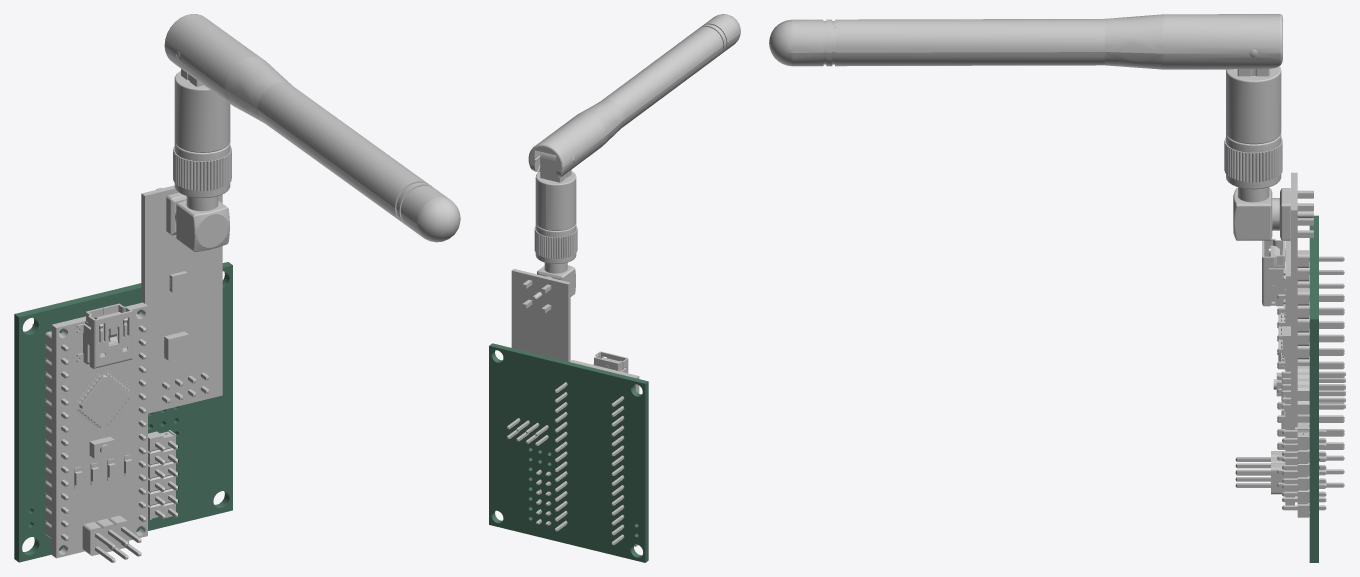
The model's file is nano reciver.glb.
3 renders of one model, left to right at view 1: azimuth 30°, elevation 25°; view 2: azimuth 150°, elevation 25°; view 3: azimuth 270°, elevation 25°, orthographic. The views are drawn at different scales.
Visible parts, largest first — view 1: empty_130, empty_32, empty_100, empty_2, empty_31, empty_11, empty_103, empty_33, empty_59, empty_129, empty_49, empty_39 (+2 smaller); view 2: empty_130, empty_32, empty_2, empty_31, empty_33, empty_11, empty_103; view 3: empty_32, empty_31, empty_11, empty_130, empty_33, empty_2, empty_103, empty_102, empty_41, empty_100, empty_42, empty_40.
Part boxes in pixels (x1,y1,x2,y2): empty_130: (14,262,232,562); empty_32: (164,14,460,242); empty_100: (51,302,147,558); empty_2: (141,185,222,413); empty_31: (174,69,230,152); empty_11: (156,187,229,251); empty_103: (76,303,132,368); empty_33: (173,141,231,198); empty_59: (79,374,129,426); empty_129: (45,331,60,538); empty_49: (82,515,128,555); empty_39: (148,431,162,519); empty_130: (489,343,648,562); empty_32: (528,14,740,177); empty_2: (511,269,570,361); empty_31: (535,152,576,230); empty_33: (534,223,577,263); empty_11: (522,262,575,313); empty_103: (593,351,628,373); empty_32: (769,14,1282,69); empty_31: (1226,66,1281,144); empty_11: (1233,187,1313,240); empty_130: (1309,215,1318,562); empty_33: (1224,133,1282,189); empty_2: (1291,172,1297,427); empty_103: (1262,238,1285,307); empty_102: (1295,288,1309,491); empty_41: (1297,430,1309,517); empty_100: (1285,240,1294,505); empty_42: (1282,438,1326,510); empty_40: (1282,430,1326,502).
Bounding box in the file's own units: 42 × 97.73 × 98.69.
